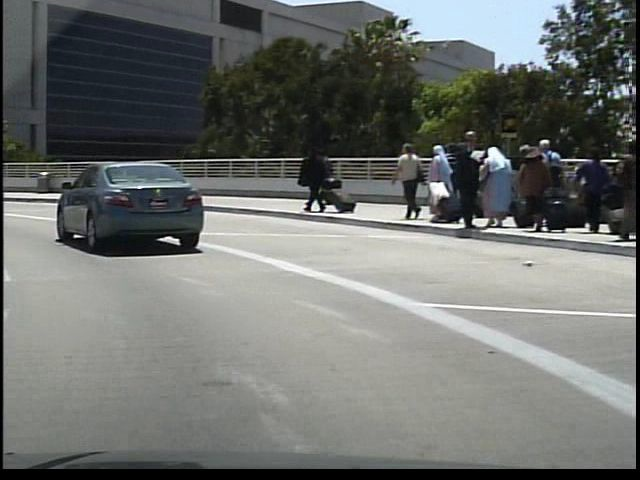person: (447, 126, 485, 232), (388, 141, 423, 220), (293, 142, 327, 214), (314, 151, 333, 206)
